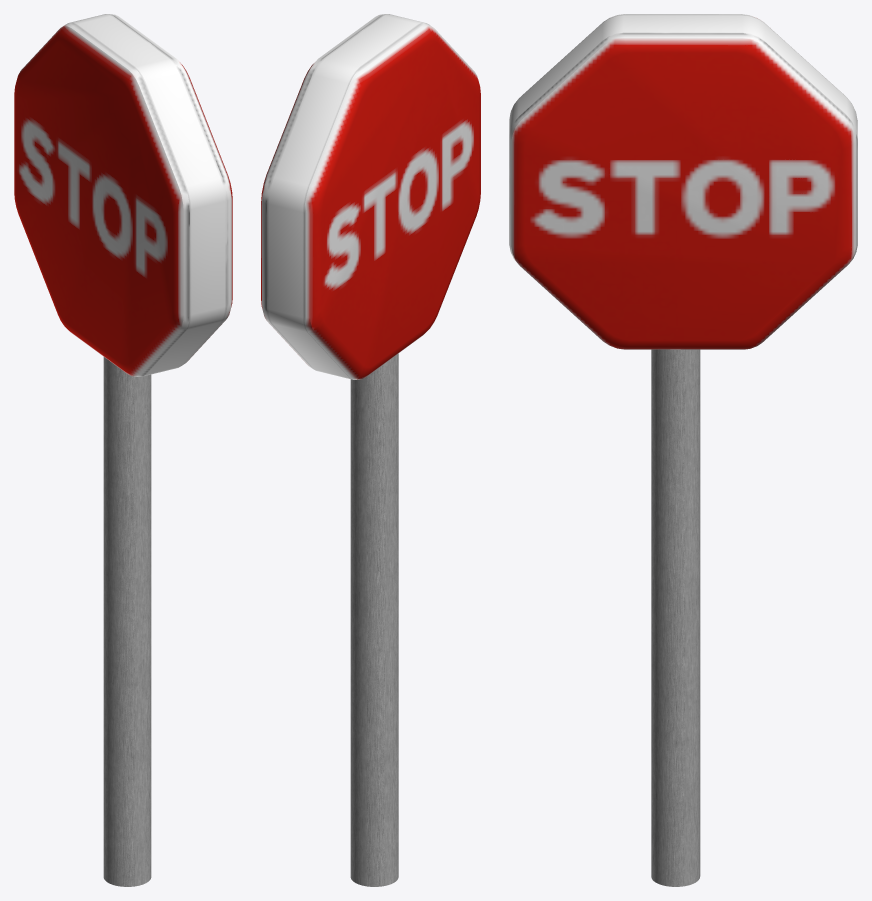
The model's file is SeñalStop.fbx.
3 renders of one model, left to right at view 1: azimuth 30°, elevation 25°; view 2: azimuth 150°, elevation 25°; view 3: azimuth 270°, elevation 25°, orthographic. The views are drawn at different scales.
Parts seen in each view (by area): view 1: Señal, Base; view 2: Señal, Base; view 3: Señal, Base.
Part boxes in pixels (x1,y1,x2,y2): Señal: [14, 14, 232, 376]; Base: [103, 357, 151, 886]; Señal: [261, 14, 480, 379]; Base: [350, 353, 398, 886]; Señal: [509, 14, 857, 349]; Base: [651, 349, 700, 886].
Size of the model in its own units: 34.92 by 475 by 176.
1 material, 1 textured.
